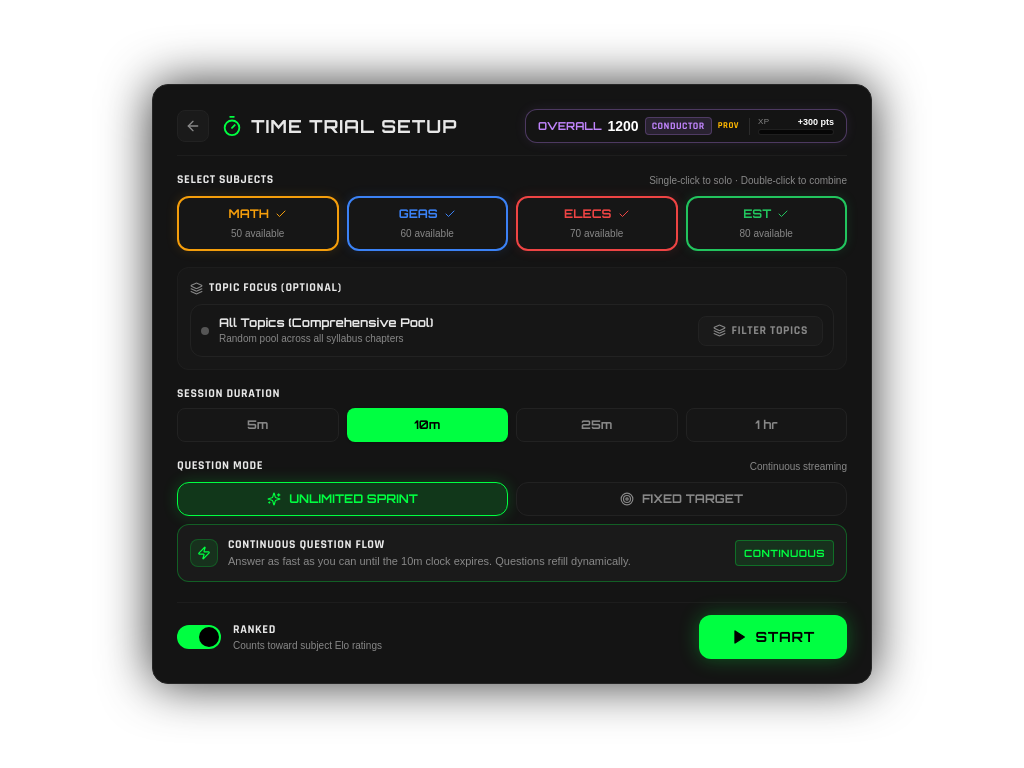
GauntletSetup Component › switches to Fixed Target mode when clicking FIXED TARGET button
Click the button "FIXED TARGET" at (682, 499), box 516,482 -> 847,516
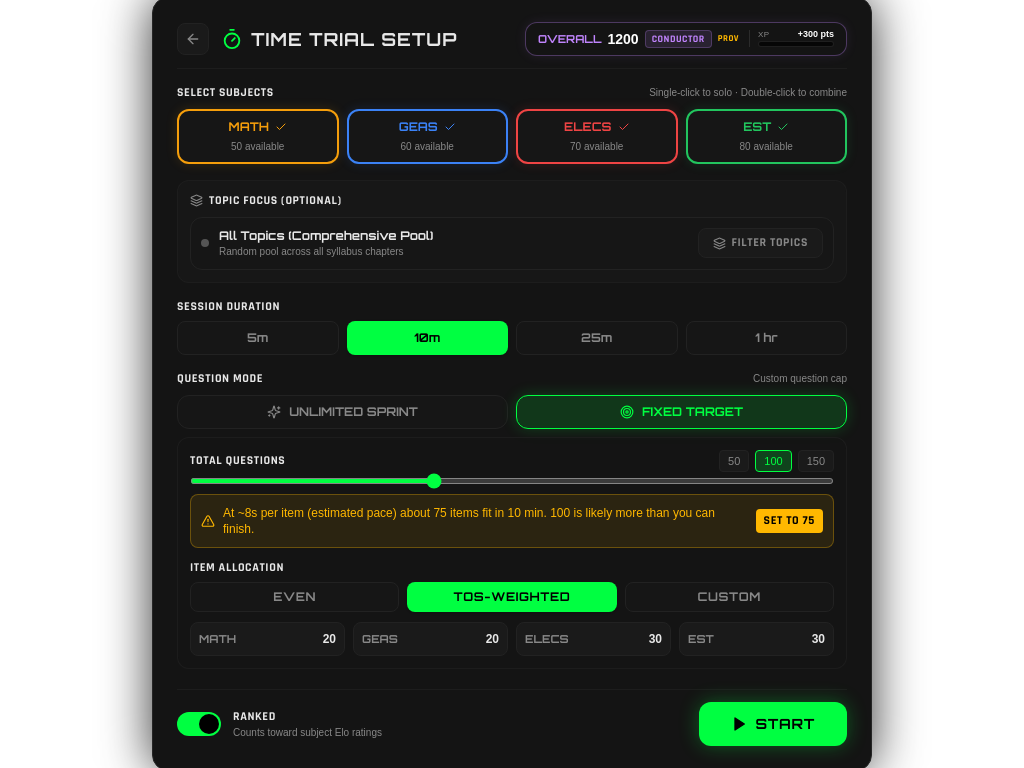
Expected: the text "Total Questions" is shown, 190,453 -> 285,469
Expected: the text "Item Allocation" is shown, 190,560 -> 284,575
Expected: the text "TOS-WEIGHTED" is shown, 407,582 -> 617,612
